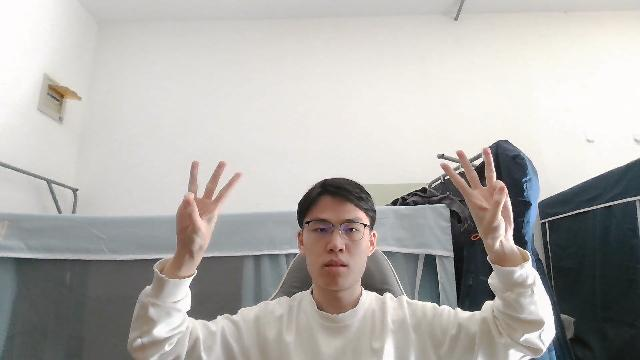three: (164, 154, 245, 271), (441, 144, 518, 256)
